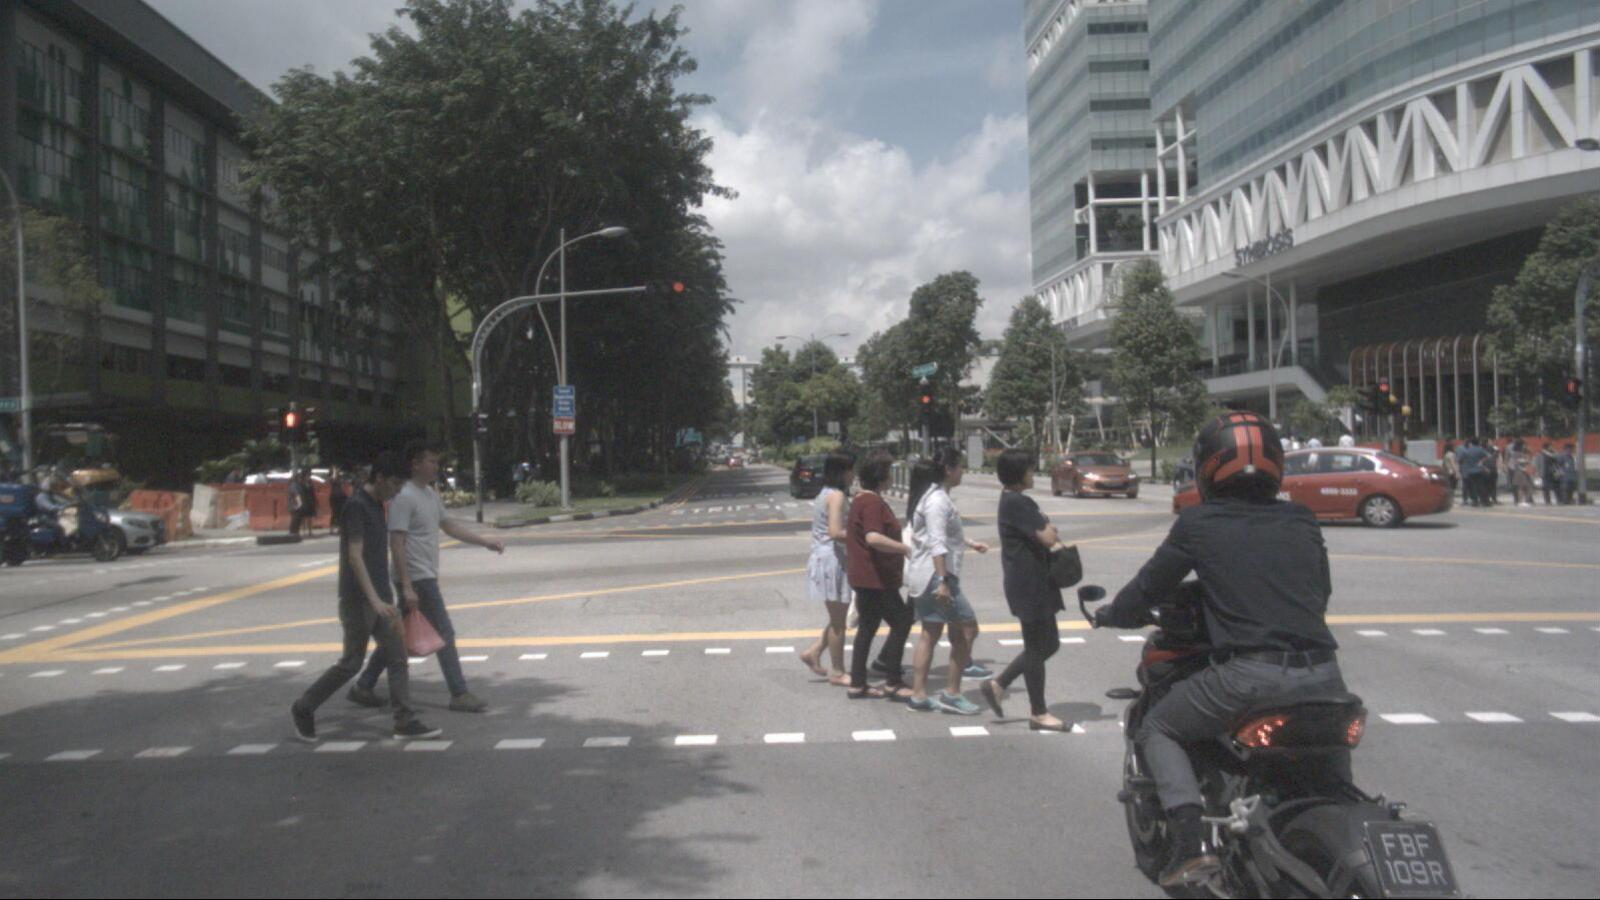human.pedestrian.adult-pedestrian.moving: (288, 450, 443, 743), (341, 436, 504, 711), (980, 447, 1083, 733), (868, 460, 992, 683), (903, 447, 983, 716), (845, 450, 916, 700), (798, 446, 867, 685), (1337, 430, 1355, 478), (1320, 436, 1336, 477), (1276, 434, 1292, 475), (1307, 437, 1319, 477)
human.pedestrian.adult-pedestrian.standing: (1503, 434, 1535, 505), (1463, 440, 1489, 509), (1456, 441, 1480, 507), (1479, 438, 1502, 507), (1537, 442, 1560, 507), (1555, 443, 1578, 505), (296, 468, 316, 537), (1510, 442, 1531, 507), (282, 473, 302, 536), (1441, 443, 1456, 507)
vehicle.motorcycle-cycle.with_rider: (1087, 410, 1467, 900), (0, 461, 126, 568)
